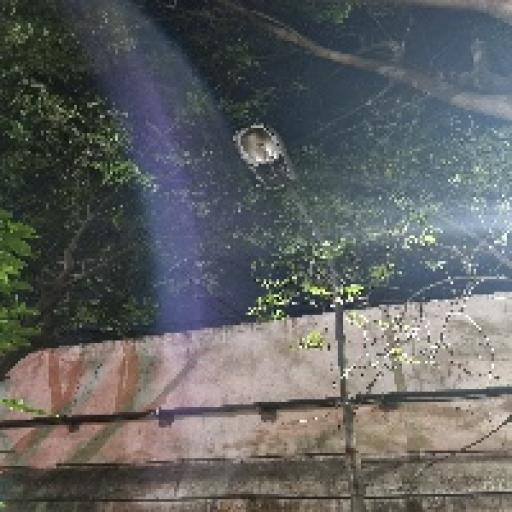Not Working: (221, 113, 308, 205)
